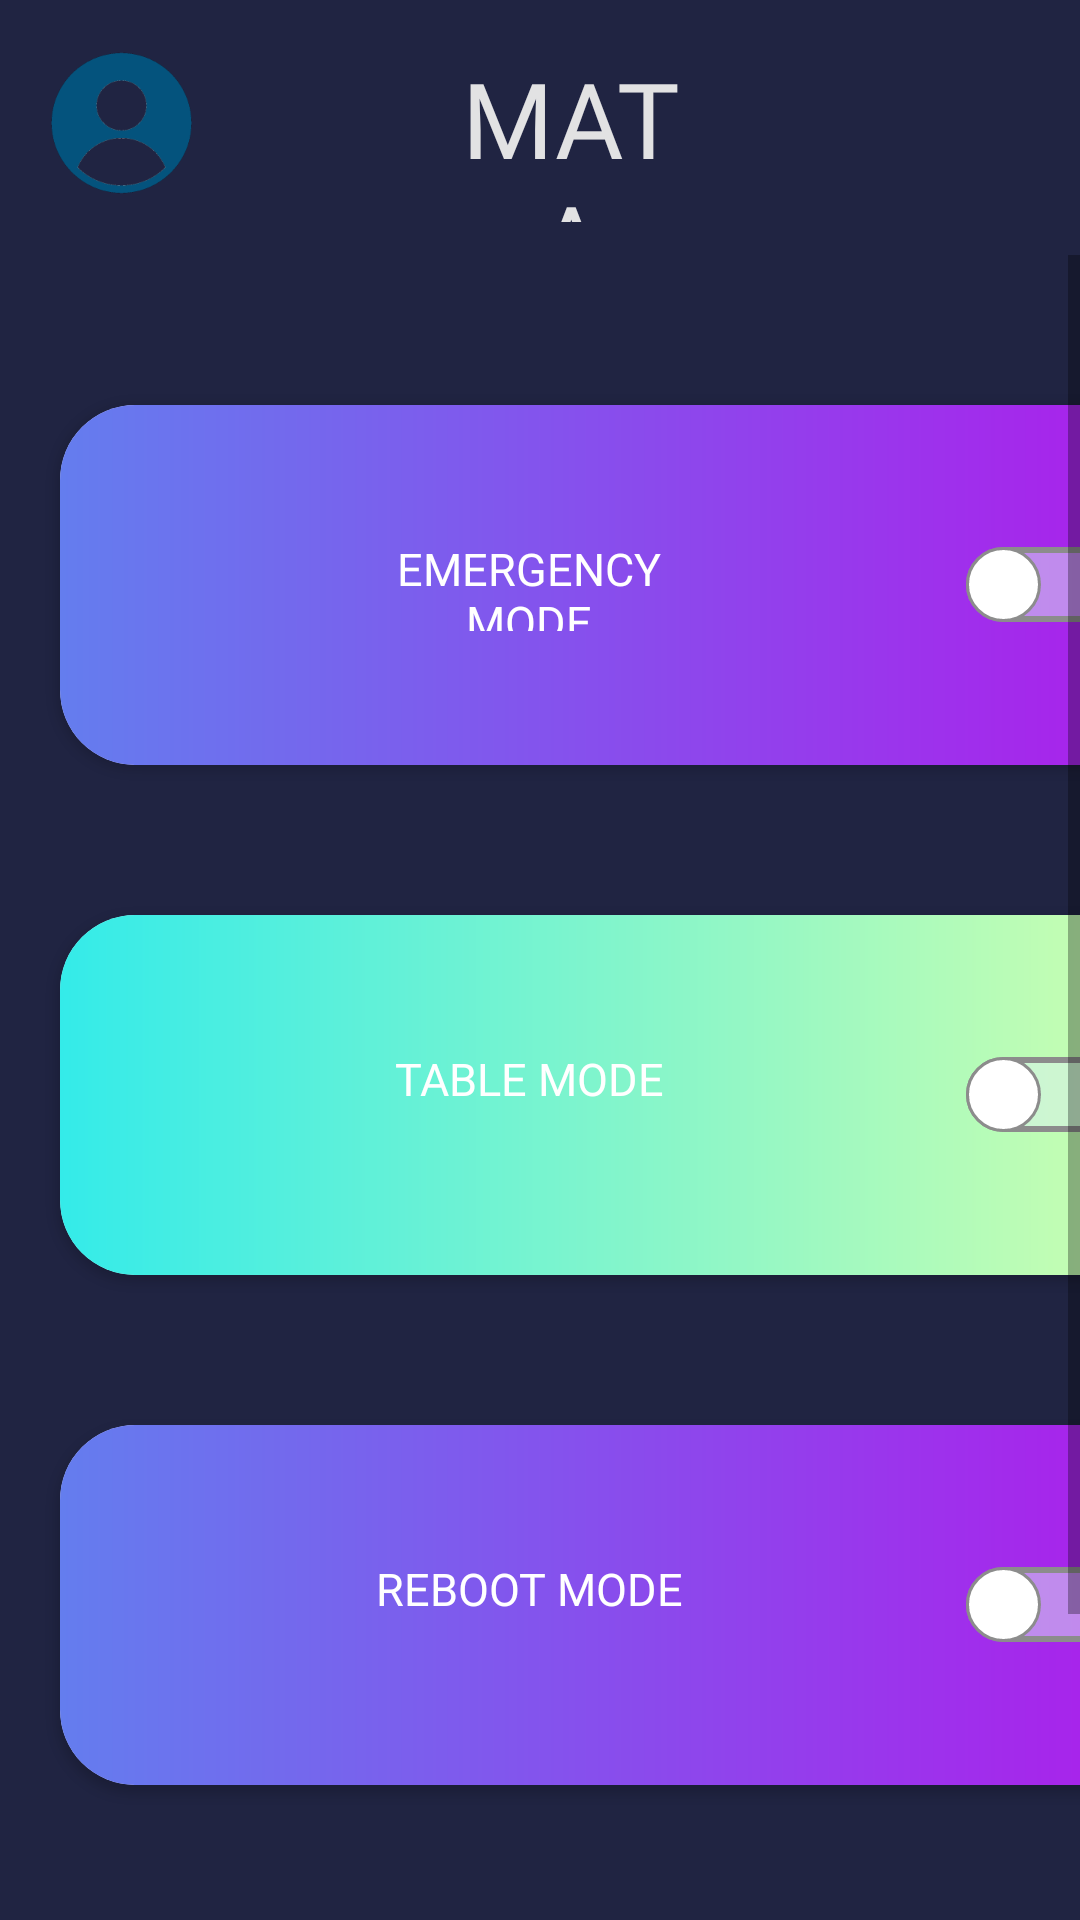

Locate icon controls on the screen. Image size 1080x1920, boxes as rect(x1, y1, x2, y2).
account: rect(51, 53, 192, 193)
